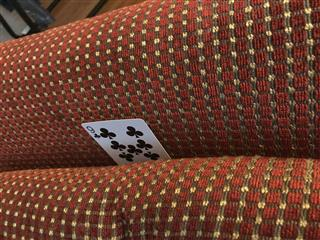NineOfClubs: (79, 117, 171, 166)
